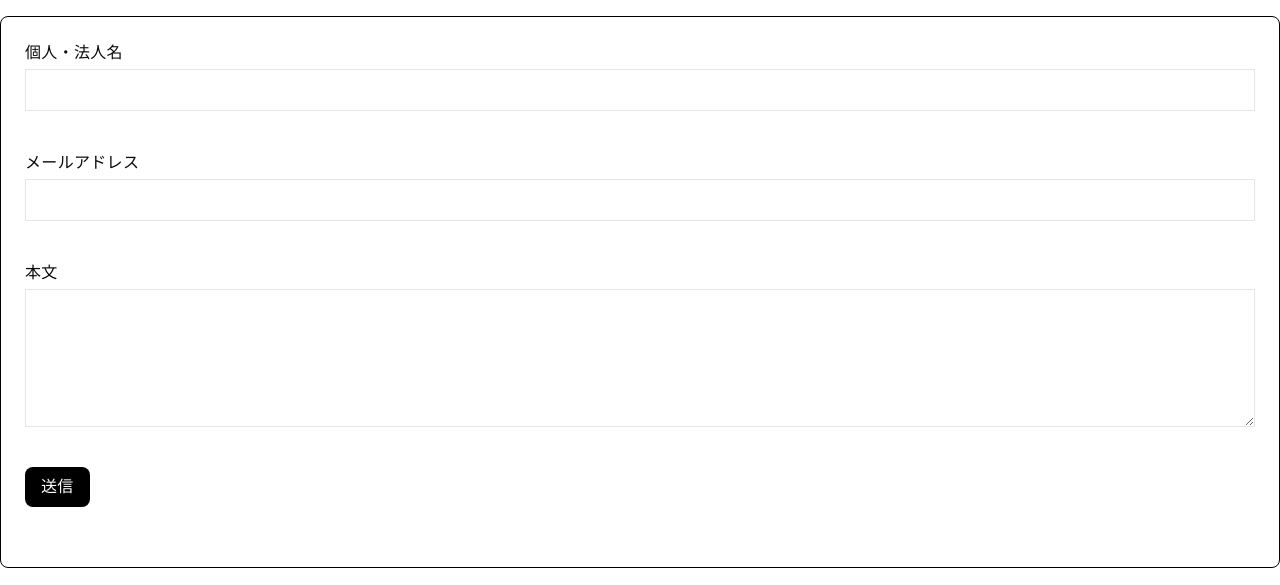
Test: ContactForm › shows error messages when submitted with required fields empty
Click the button "送信".
click(57, 487)  # box [25,467,90,507]
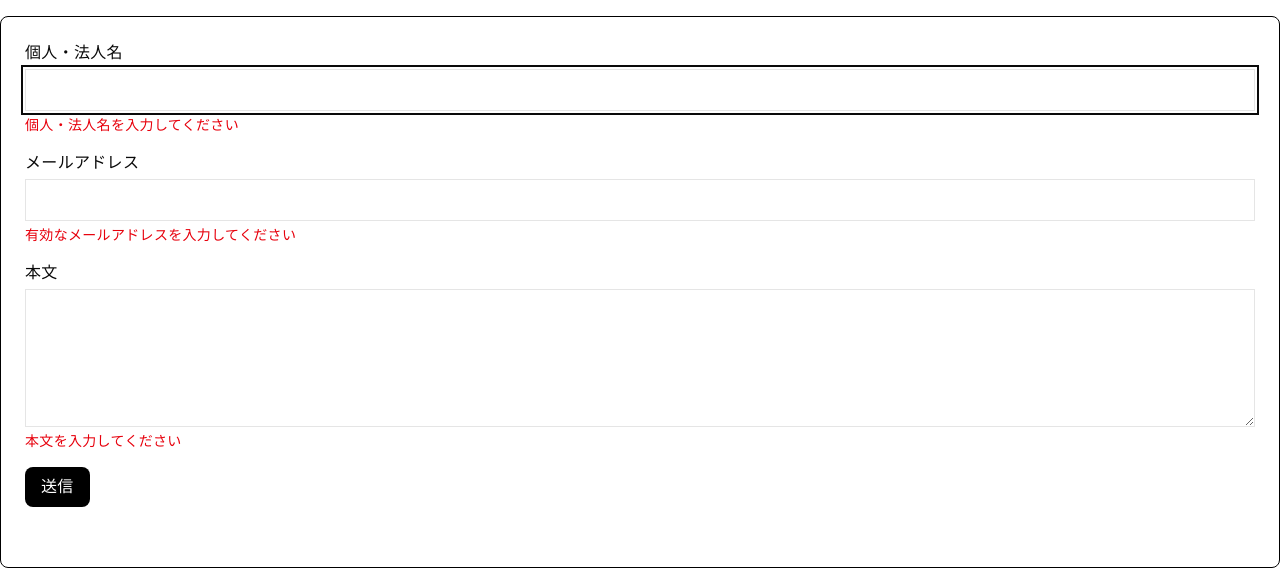
Expected: the text "個人・法人名を入力してください" is shown, [25,117,239,133]
